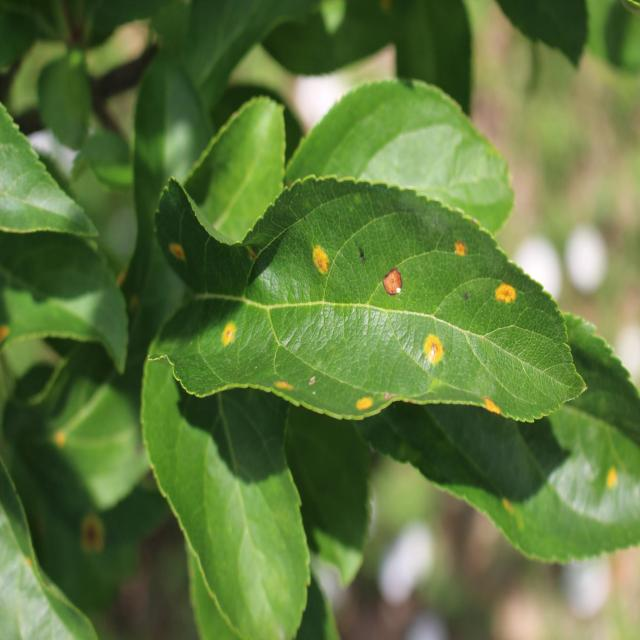Black Rot: (375, 253, 407, 312)
Rust: (306, 234, 341, 290), (410, 327, 450, 372), (486, 274, 520, 314), (449, 230, 471, 276), (214, 319, 248, 348), (166, 229, 190, 270), (348, 386, 381, 415), (479, 393, 508, 423), (268, 369, 296, 398)
